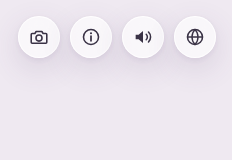
CornerBar › toggles the about dialog and reflects it in aria-expanded
The image size is (232, 160).
Click the button named "制作说明" at (91, 37), box [70,16,112,58]
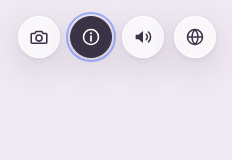
Check: the button named "制作说明" is expanded, box [70,16,112,58]
